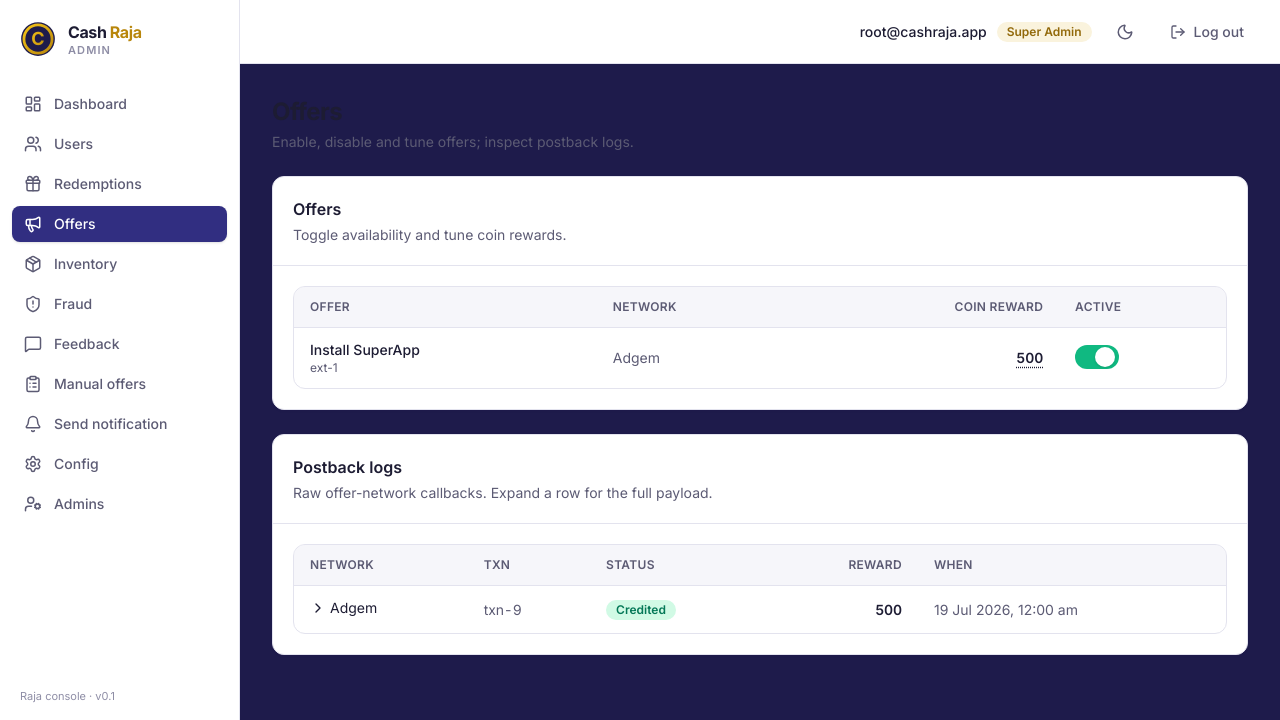
Test: Offers screen › edits the coin reward inline
The image size is (1280, 720).
Expected: the text "Install SuperApp" is shown, [310,341,420,358]
Step 1. Click the button "500" → (1030, 358), box [1016,348,1043,368]
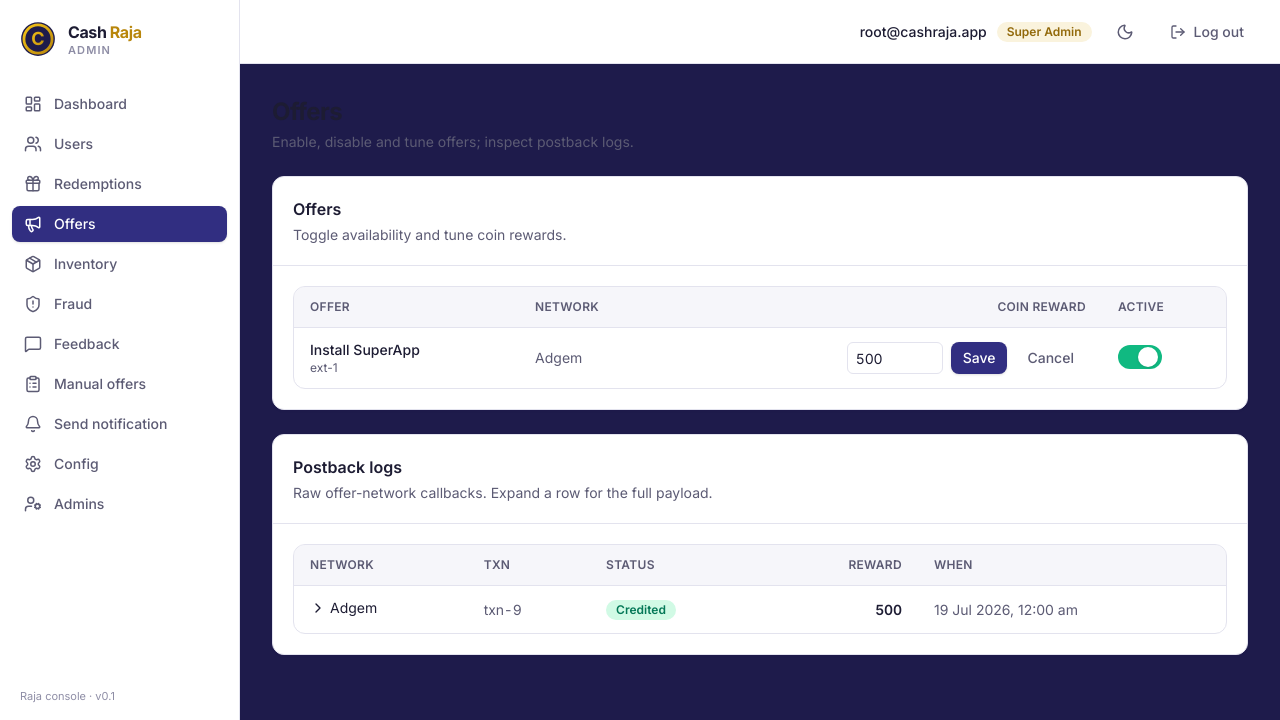
Step 2. Replace the text in the number field named "Coin reward for Install SuperApp" with "750" → (895, 358), box [847,342,943,374]
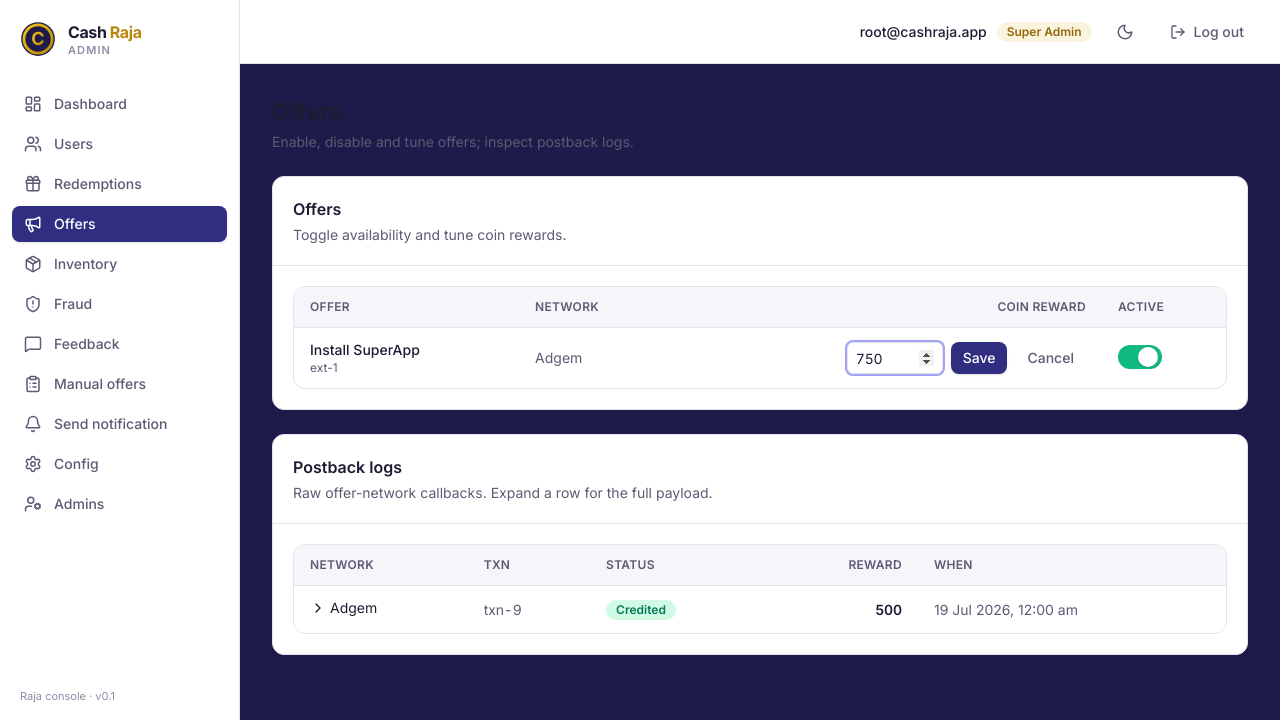
Step 3. Click the button "Save" → (979, 358), box [951,342,1008,374]
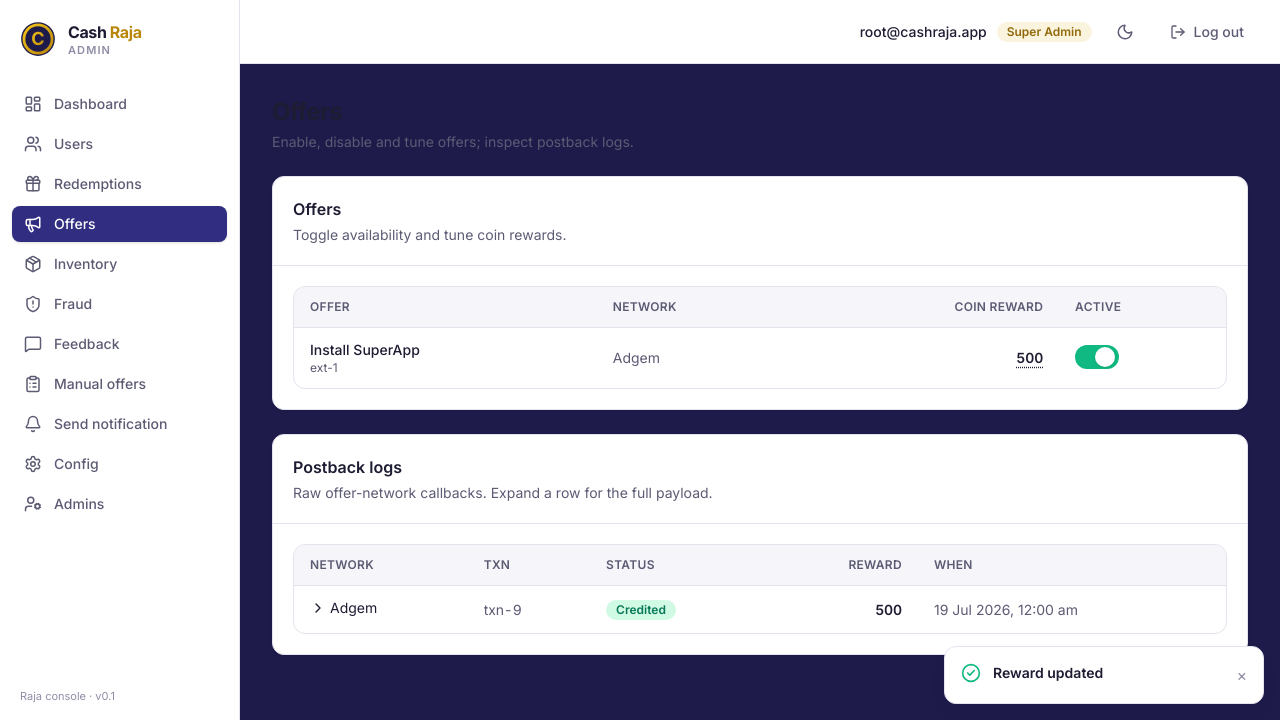
Expected: the text "Reward updated" is shown, [993,664,1103,681]
